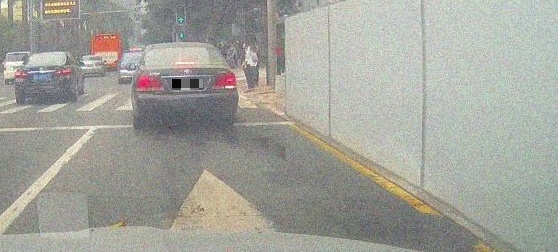L_light: (135, 74, 163, 90), (15, 69, 29, 79)
R_light: (211, 72, 237, 88), (53, 67, 72, 77)
T_light: (175, 61, 194, 64), (43, 53, 52, 55)
day-brake: (135, 42, 238, 130)
day-no: (14, 52, 73, 104)
plate_1: (172, 79, 203, 90)
